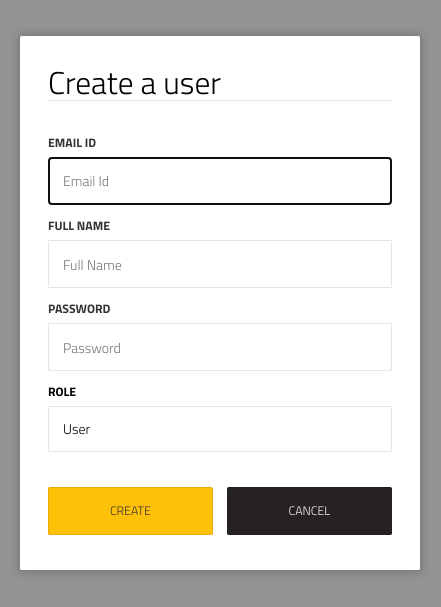
<UserForm/> › should show error messages if create button is created with empty fields
Click the button "Create" at [130, 511], box x1=48 y1=487 x2=213 y2=535
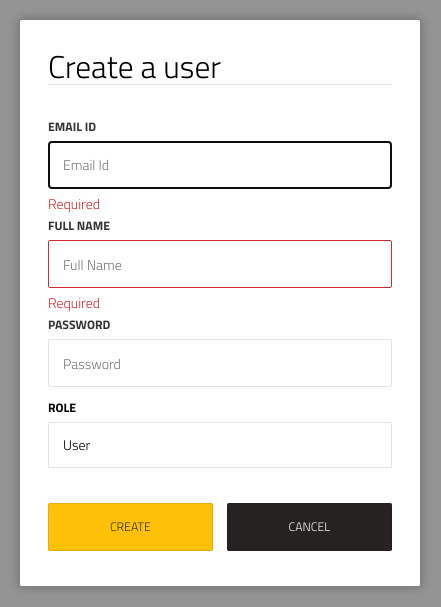
Result: the text with class "error-text" below "Email Id" reads "Required" at x1=48 y1=193 x2=100 y2=214
Result: the text with class "error-text" below "Full Name" reads "Required" at x1=48 y1=292 x2=100 y2=313
